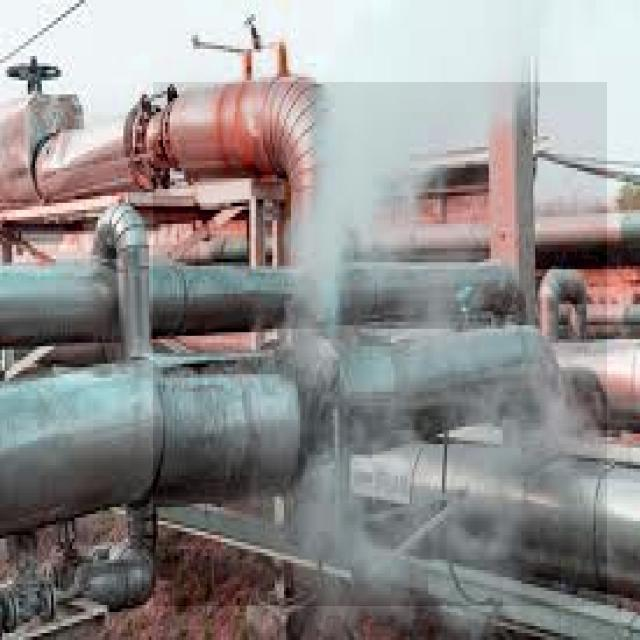corrosion: (188, 215, 424, 518)
